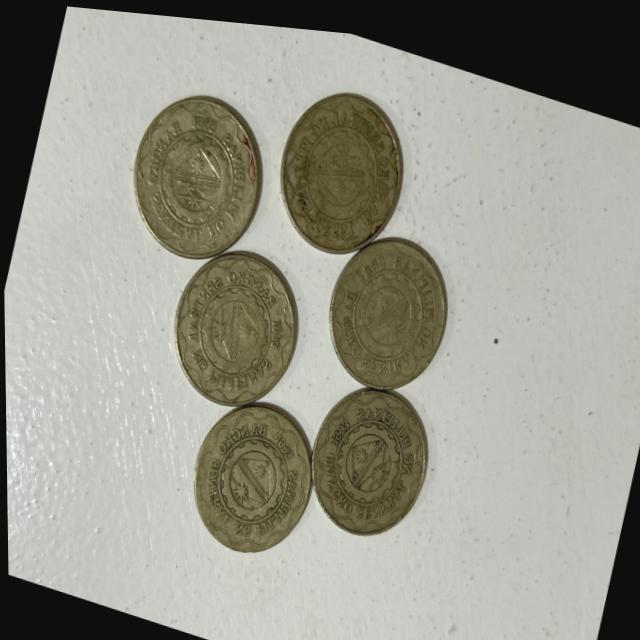5_Old_Back: (109, 50, 282, 274), (151, 218, 320, 434), (267, 72, 426, 272), (304, 220, 464, 411), (291, 366, 442, 551), (174, 384, 320, 563)
